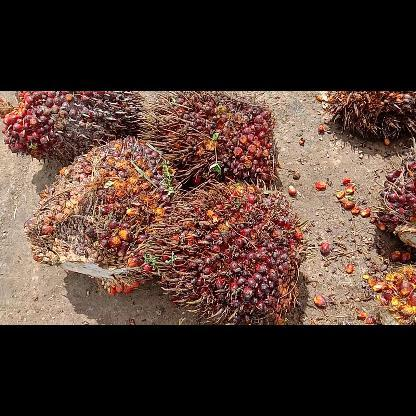TBS masak: (26, 136, 180, 294), (149, 178, 305, 324), (137, 91, 273, 181), (3, 91, 140, 163)
